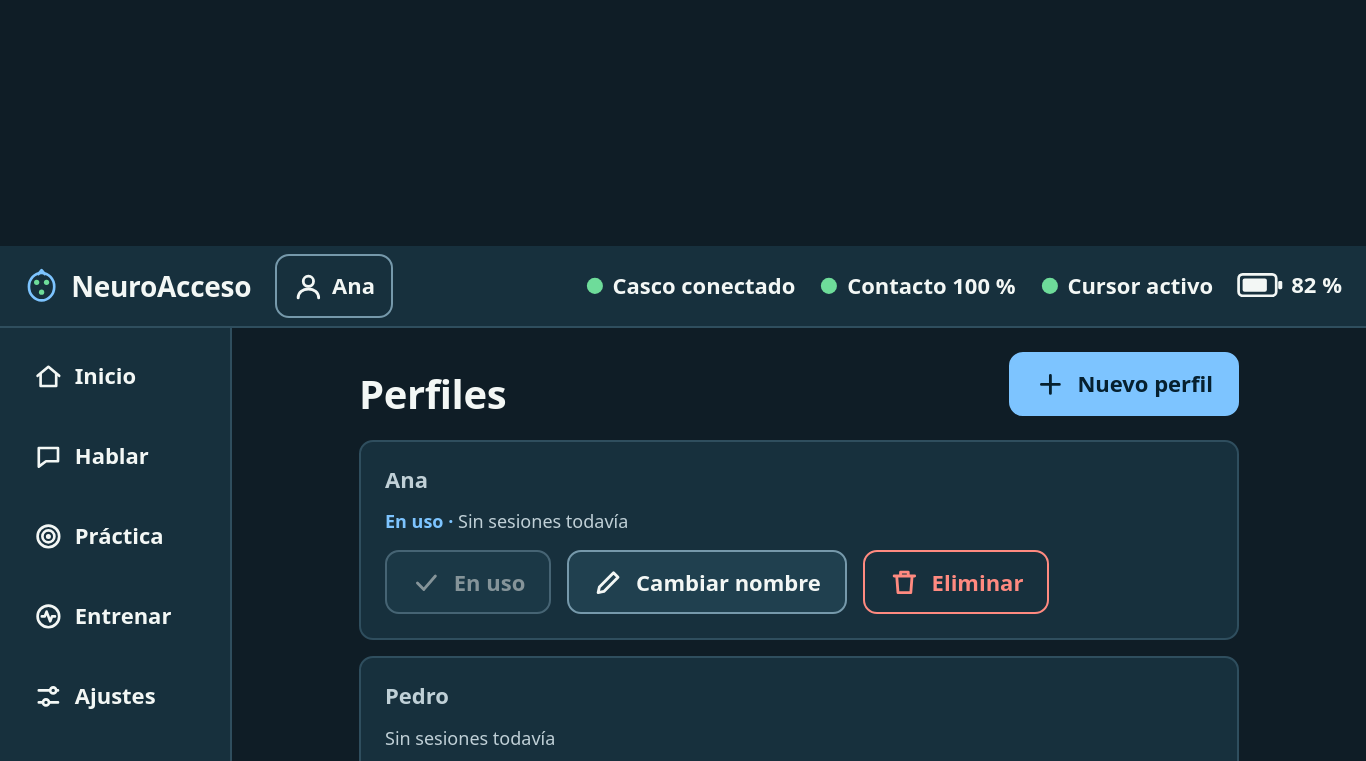
Test: Perfiles: gestión › crear añade el perfil a la lista
(page scrolled)
Click the button "Nuevo perfil" at (1124, 384), box [1009,352,1239,416]
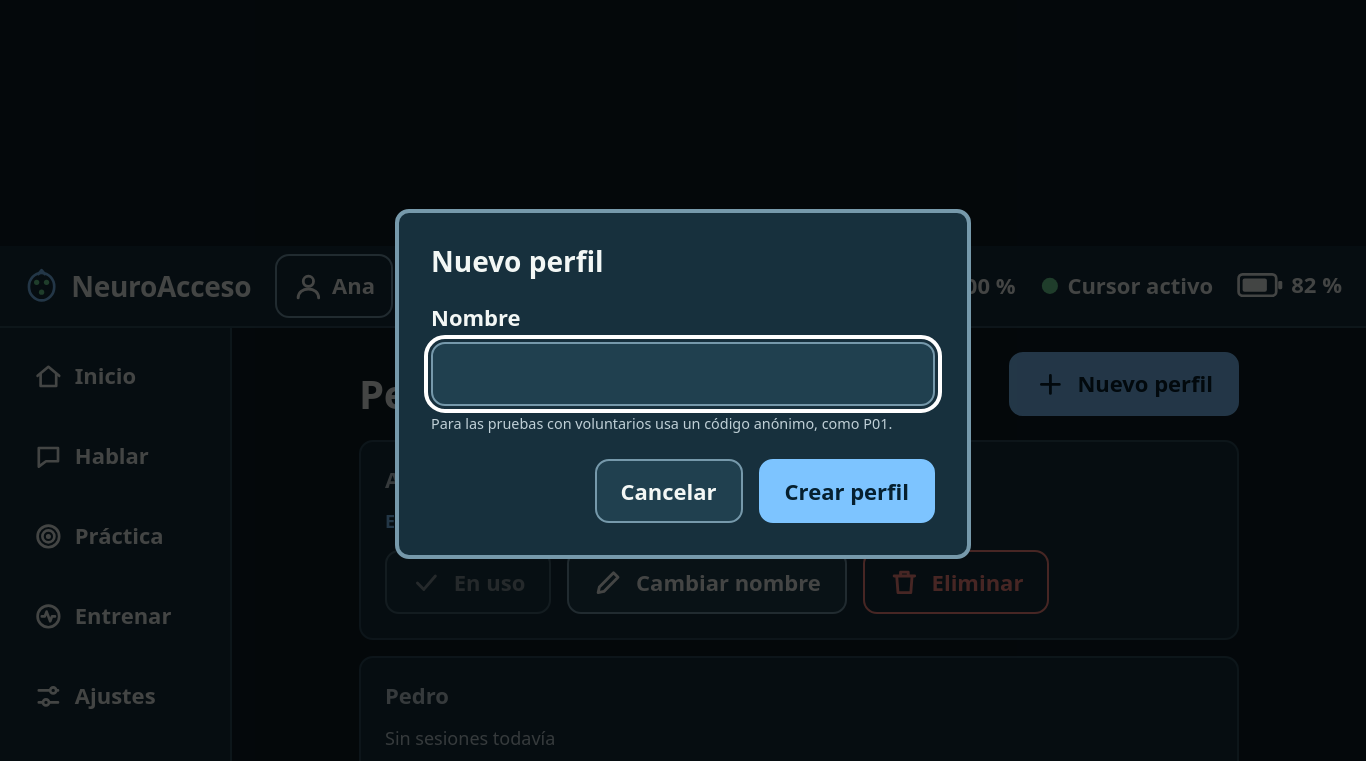
Type "Lucía" into the field labelled "Nombre" at (683, 374), box [431,342,935,406]
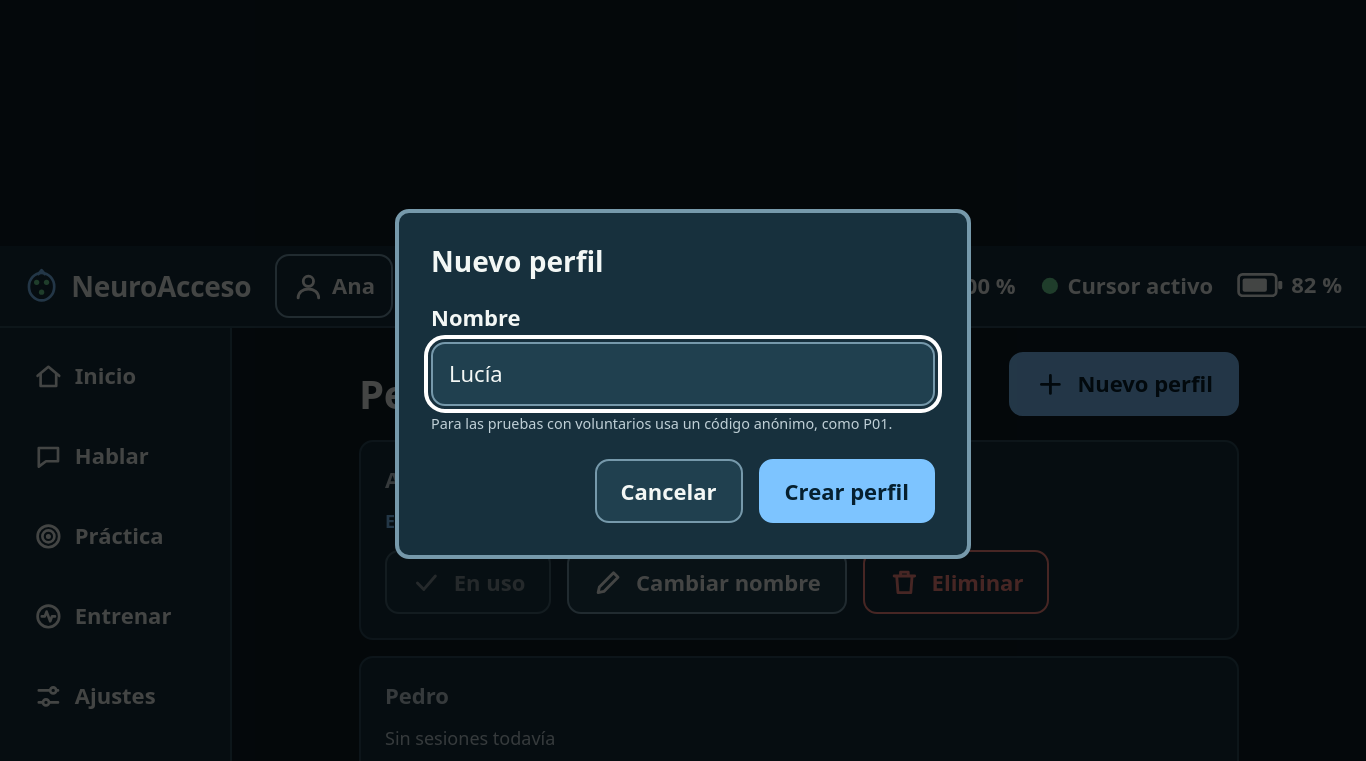
Click the button "Crear perfil" at (847, 491), box [759,459,935,523]
(page scrolled)
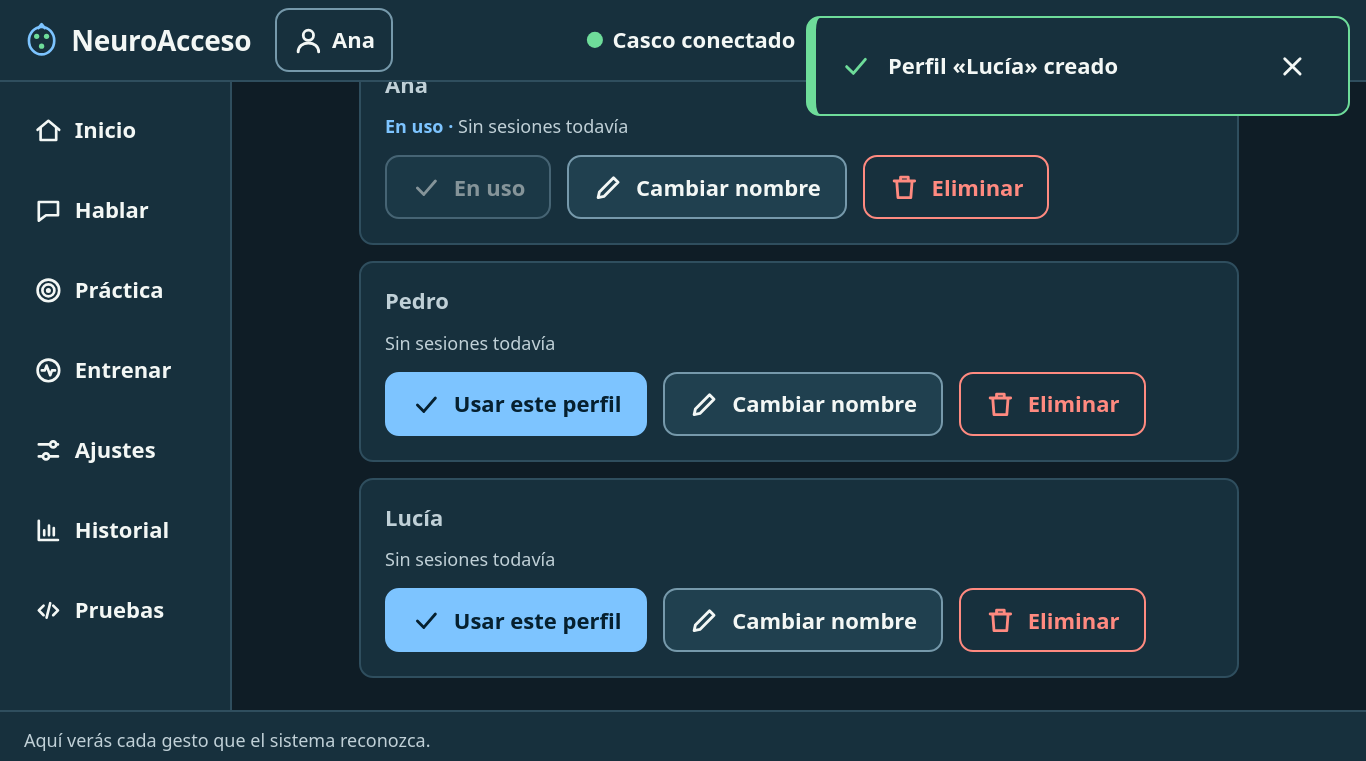
Result: the element "Lucía" is shown at [359,478,1239,678]
